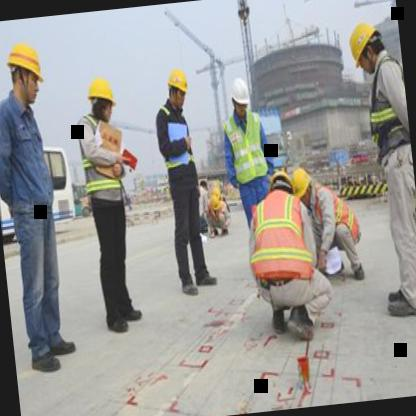helmet: (0, 30, 48, 112), (344, 15, 389, 76), (82, 69, 119, 132), (162, 62, 192, 112), (282, 164, 318, 203), (225, 70, 252, 120), (266, 167, 295, 200)
